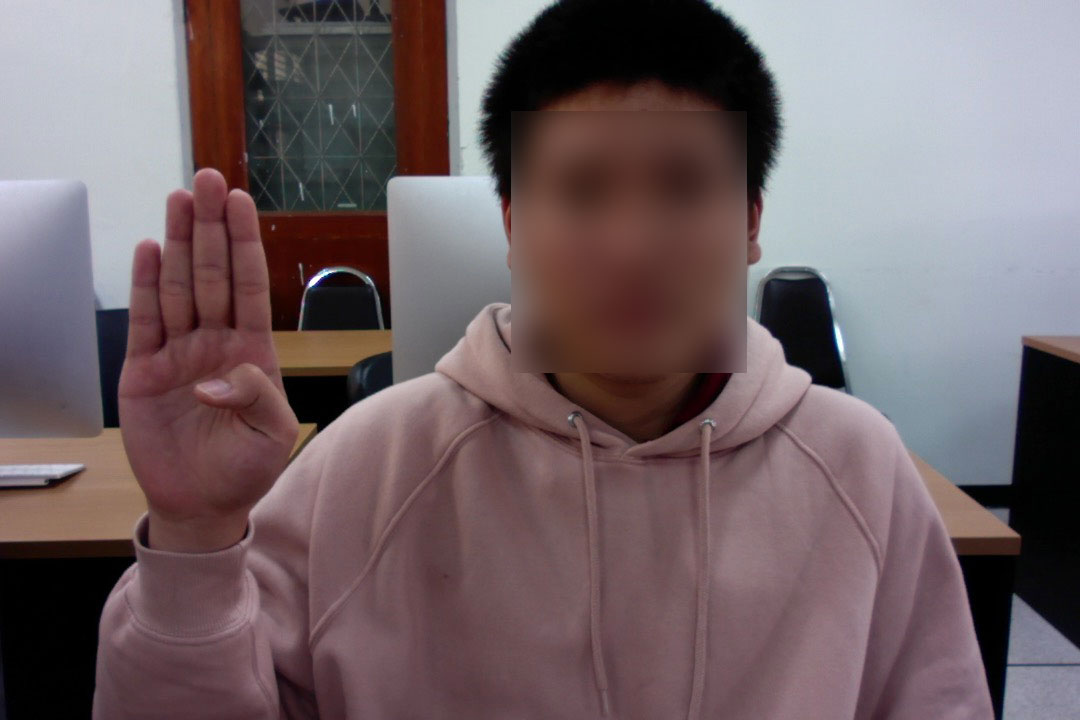bor: (114, 159, 306, 541)
